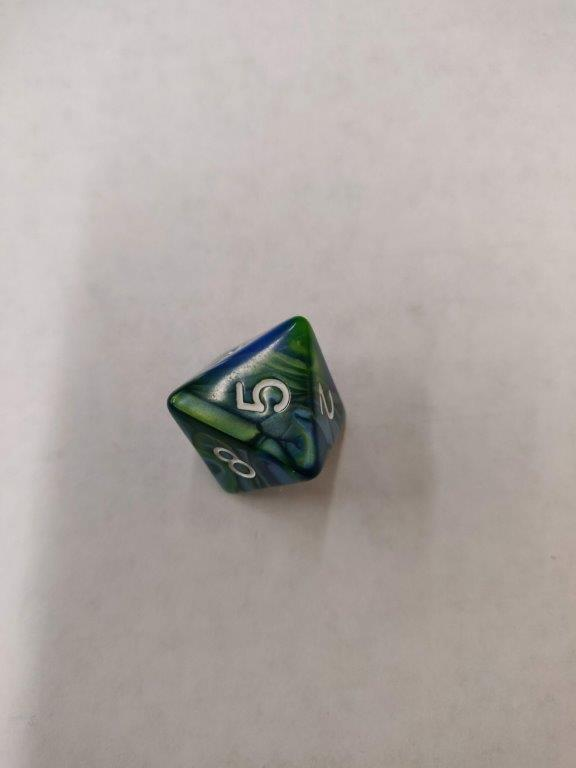d8-5: (166, 313, 344, 497)
